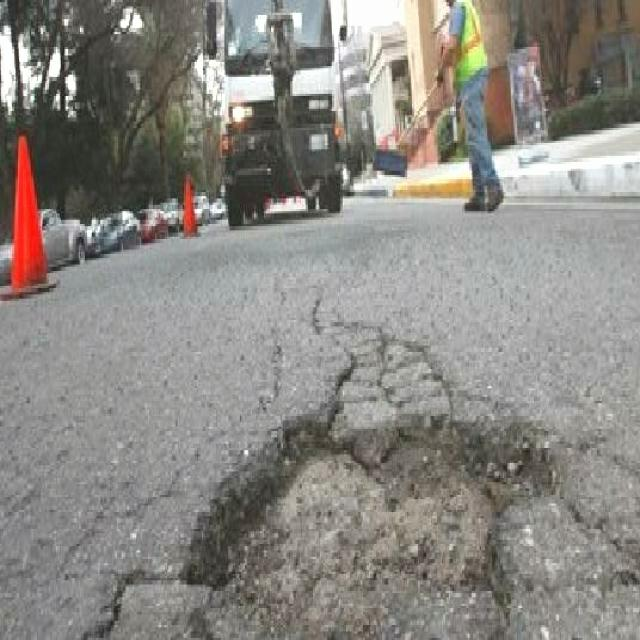Pothole: (177, 399, 562, 638)
